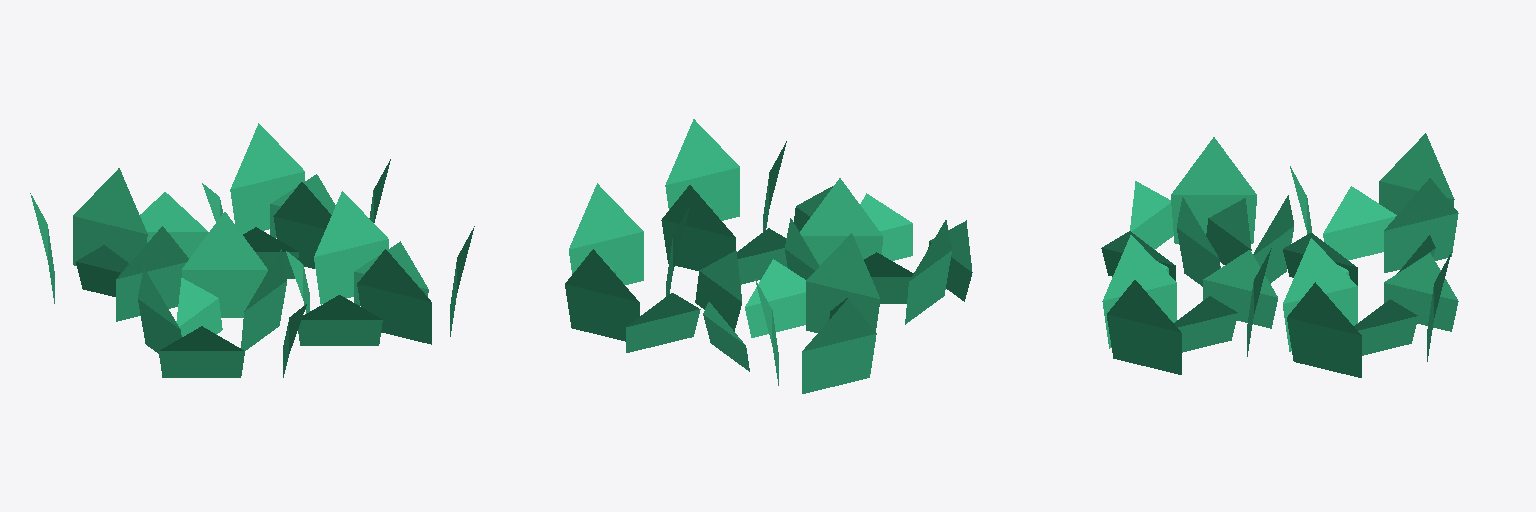
The model's file is grassLarge.obj.
3 renders of one model, left to right at view 1: azimuth 30°, elevation 25°; view 2: azimuth 150°, elevation 25°; view 3: azimuth 270°, elevation 25°, orthographic.
Parts seen in each view (by area): view 1: grassLarge; view 2: grassLarge; view 3: grassLarge.
Boxes of the visible parts, x1,y1,x2,y2 form: grassLarge: [30, 123, 474, 377]; grassLarge: [565, 119, 972, 393]; grassLarge: [1101, 133, 1458, 377].
Bounding box in the file's own units: 1.95 × 0.57 × 1.9.